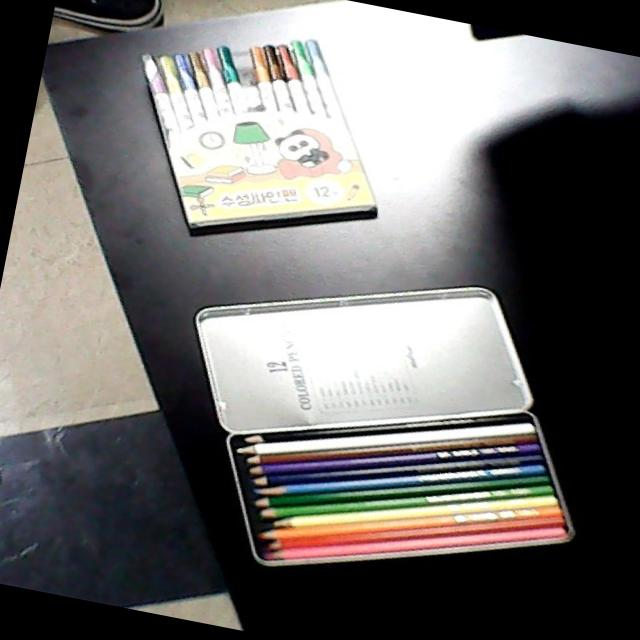color: (219, 405, 584, 570)
signpen: (133, 32, 385, 235)
